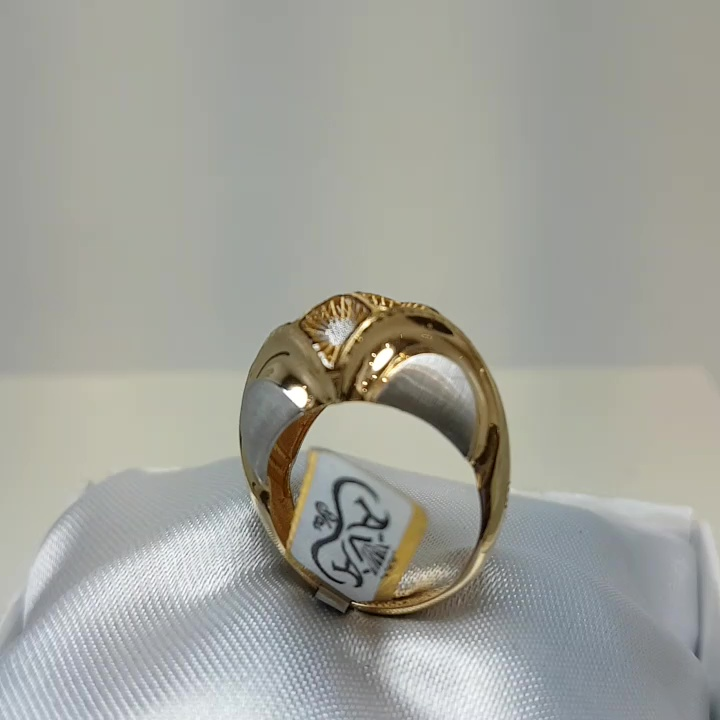Ring 2: (204, 279, 528, 633)
